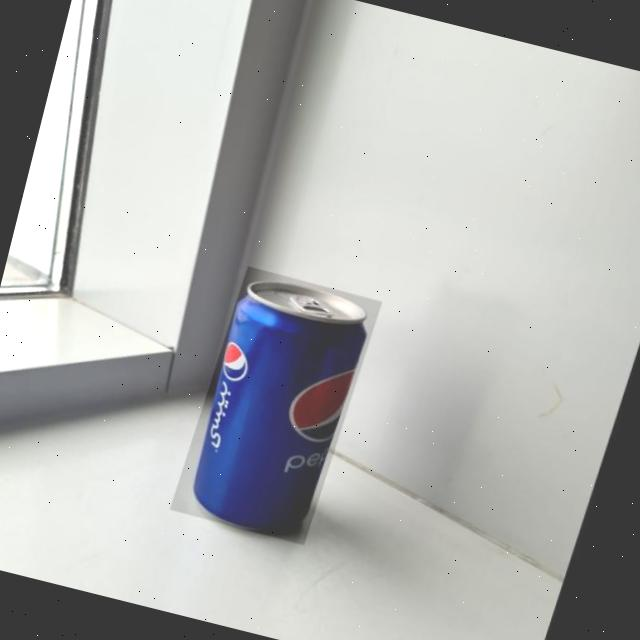trash: (166, 256, 380, 548)
